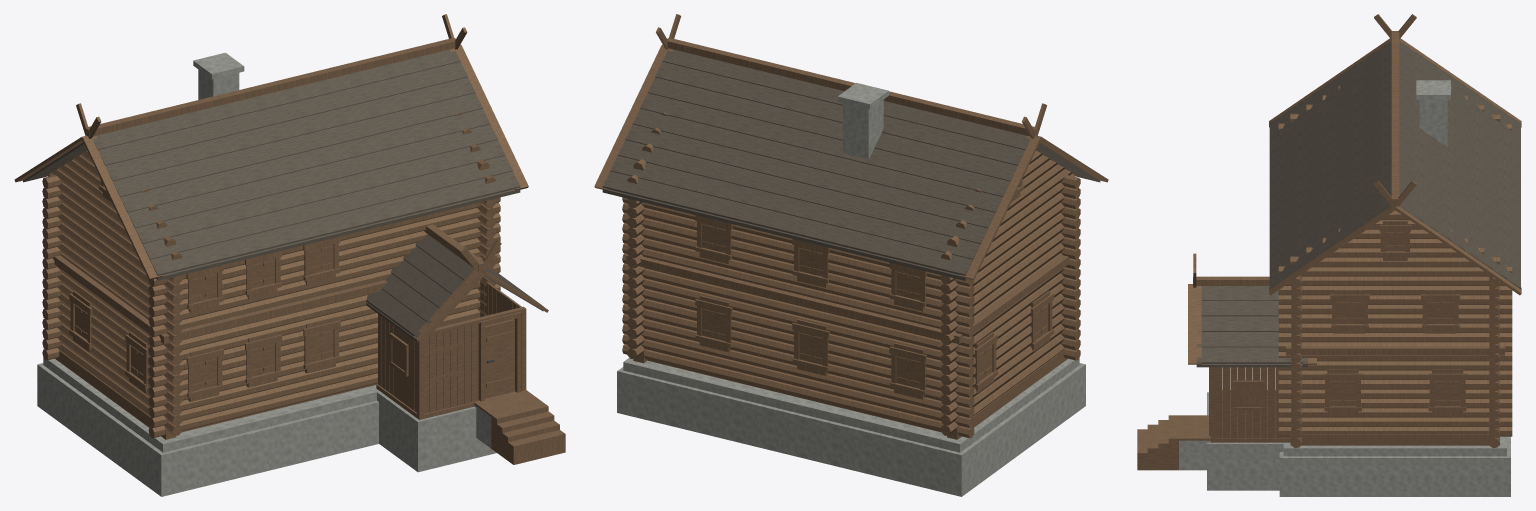
The picture shows the model from 3 angles, left to right: view 1: azimuth 30°, elevation 25°; view 2: azimuth 150°, elevation 25°; view 3: azimuth 270°, elevation 25°; orthographic projection. The views are drawn at different scales.
Parts seen in each view (by area): view 1: T5_roof, T5_shell, T5_foundation, T5_frame, T5_gable, T5_veranda_wall, T5_shutter, T5_entry_step, T5_entry_leaf0, T5_chimney, T5_veranda.001, T5_porch (+2 smaller); view 2: T5_roof, T5_shell, T5_foundation, T5_frame, T5_gable, T5_shutter, T5_chimney, T5_floor; view 3: T5_roof, T5_gable, T5_foundation, T5_frame, T5_shell, T5_veranda_wall, T5_shutter, T5_entry_step, T5_chimney, T5_floor, T5_porch, T5_veranda (+1 smaller).
Part boxes in pixels (<box>): T5_roof: <box>23,49,543,341</box>; T5_shell: <box>42,175,500,439</box>; T5_foundation: <box>37,358,496,496</box>; T5_frame: <box>14,14,548,401</box>; T5_gable: <box>48,112,495,435</box>; T5_veranda_wall: <box>378,279,521,413</box>; T5_shutter: <box>74,244,404,390</box>; T5_entry_step: <box>491,402,565,464</box>; T5_entry_leaf0: <box>485,319,514,398</box>; T5_chimney: <box>193,52,244,99</box>; T5_veranda.001: <box>416,306,526,415</box>; T5_porch: <box>474,390,542,416</box>; T5_roof: <box>602,49,1100,280</box>; T5_shell: <box>622,175,1080,439</box>; T5_foundation: <box>617,357,1085,496</box>; T5_frame: <box>594,14,1108,399</box>; T5_gable: <box>627,112,1074,435</box>; T5_shutter: <box>702,223,1048,388</box>; T5_chimney: <box>837,83,888,159</box>; T5_floor: <box>647,357,1065,432</box>; T5_roof: <box>1196,41,1520,367</box>; T5_gable: <box>1278,85,1512,436</box>; T5_foundation: <box>1179,392,1510,496</box>; T5_frame: <box>1188,14,1521,435</box>; T5_shell: <box>1290,275,1499,448</box>; T5_veranda_wall: <box>1215,367,1290,438</box>; T5_shutter: <box>1236,231,1460,406</box>; T5_entry_step: <box>1137,415,1178,470</box>; T5_chimney: <box>1416,80,1450,146</box>; T5_floor: <box>1301,441,1489,445</box>; T5_porch: <box>1179,415,1210,440</box>; T5_veranda: <box>1210,390,1290,442</box>.
Size of the model in its own units: 11.7 by 10.15 by 11.02.
Materials: 4 (3 with a texture image).
